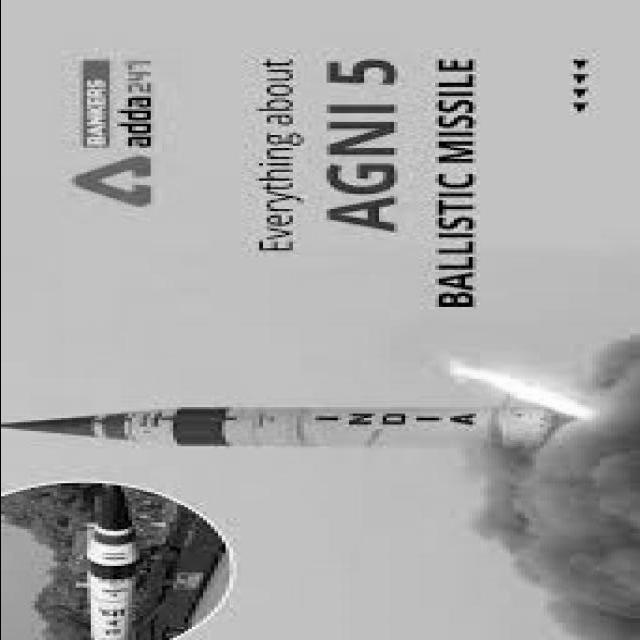Missile: (4, 395, 578, 471)
